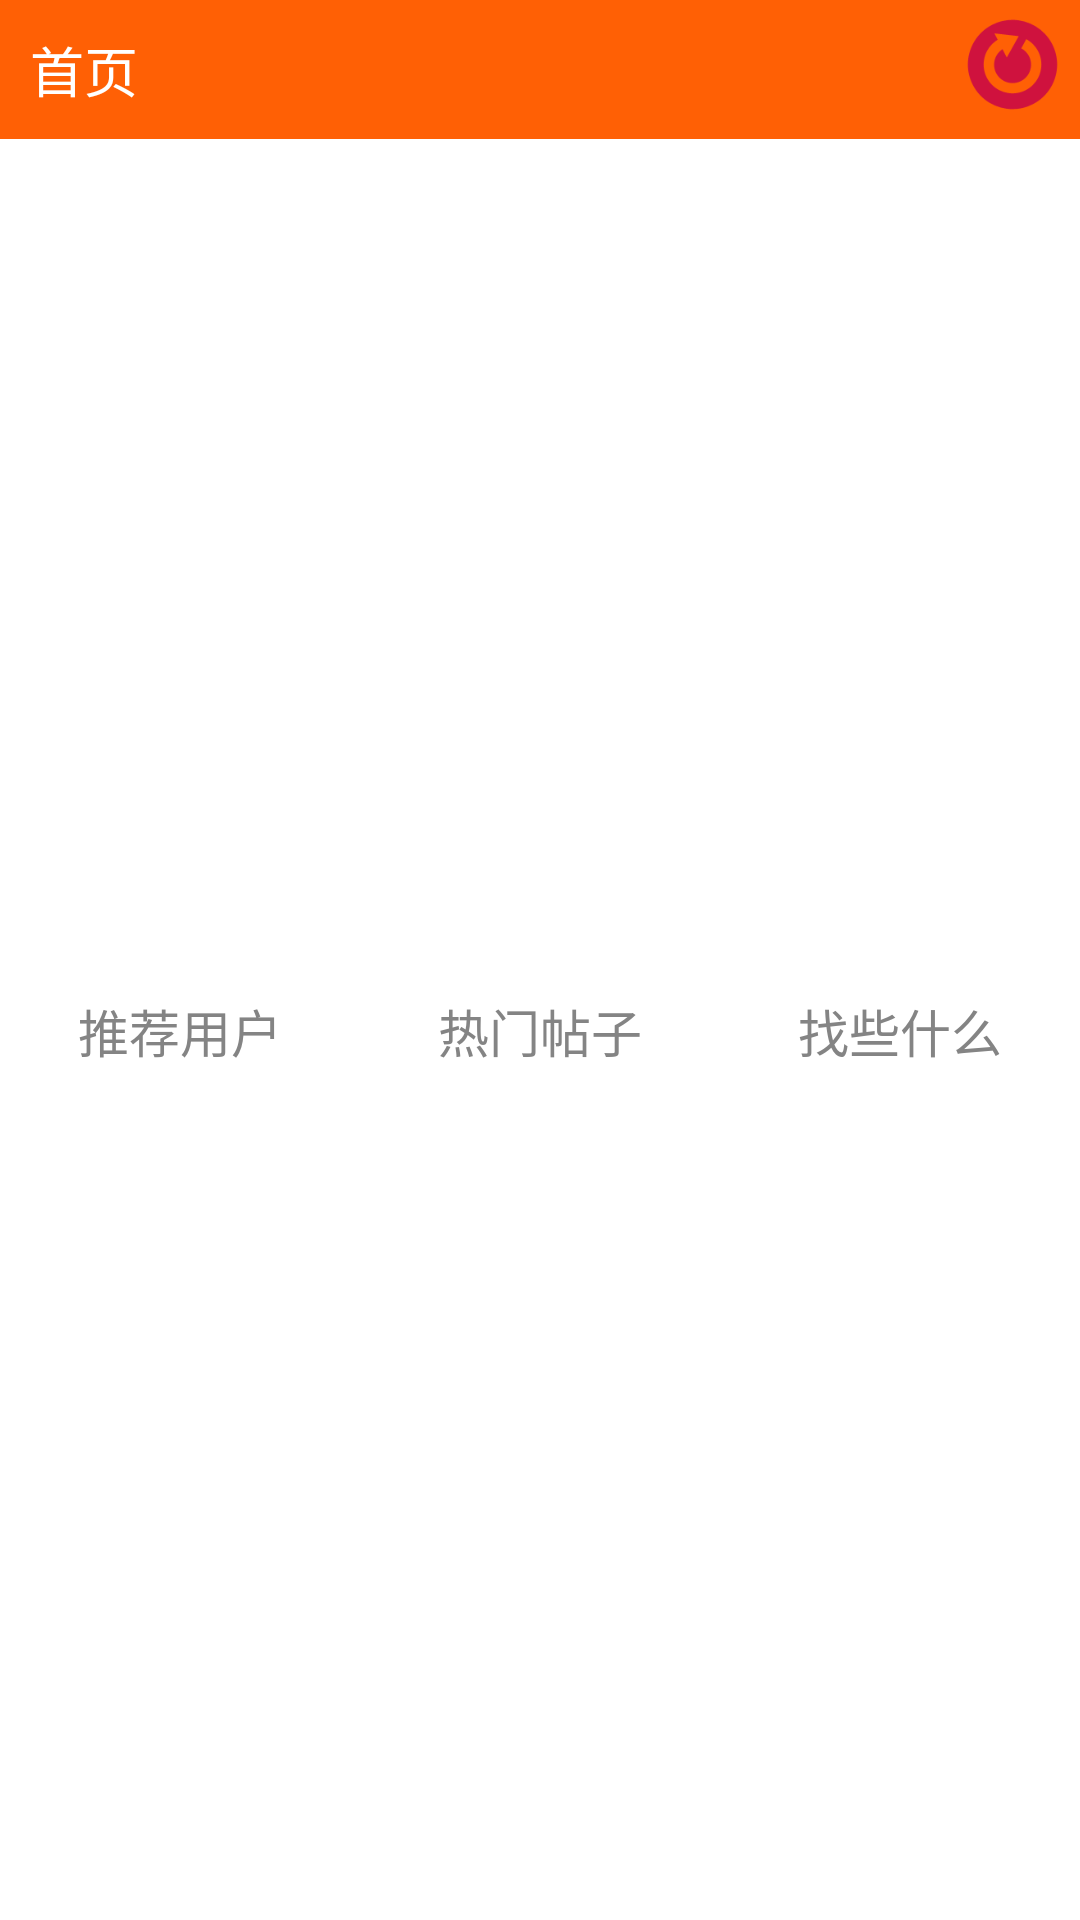

Named icons in this screenshot (1080 × 1920) and their bounding boxes, (x1, y1, x2, y2):
refresh: (968, 20, 1057, 109)
